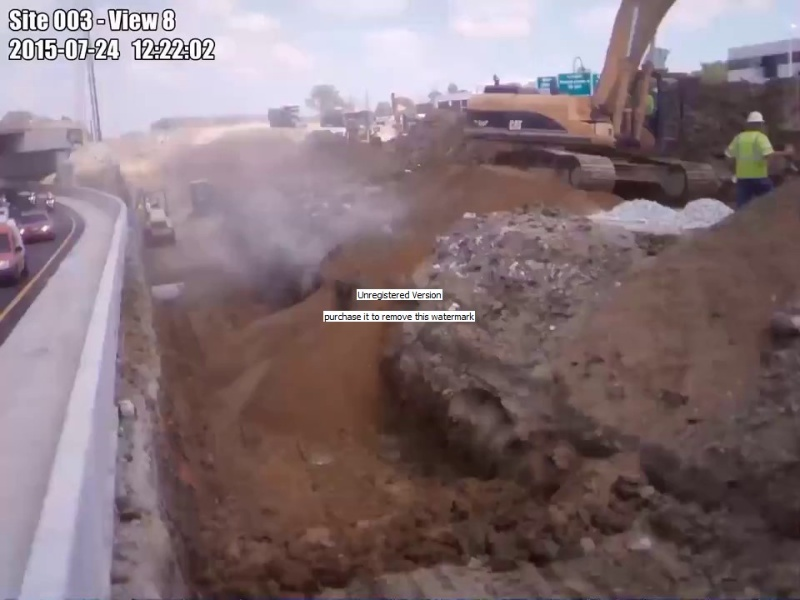excavator: (462, 1, 719, 204)
hardhat: (745, 110, 766, 124)
person: (722, 110, 775, 208)
roller: (141, 185, 176, 249)
